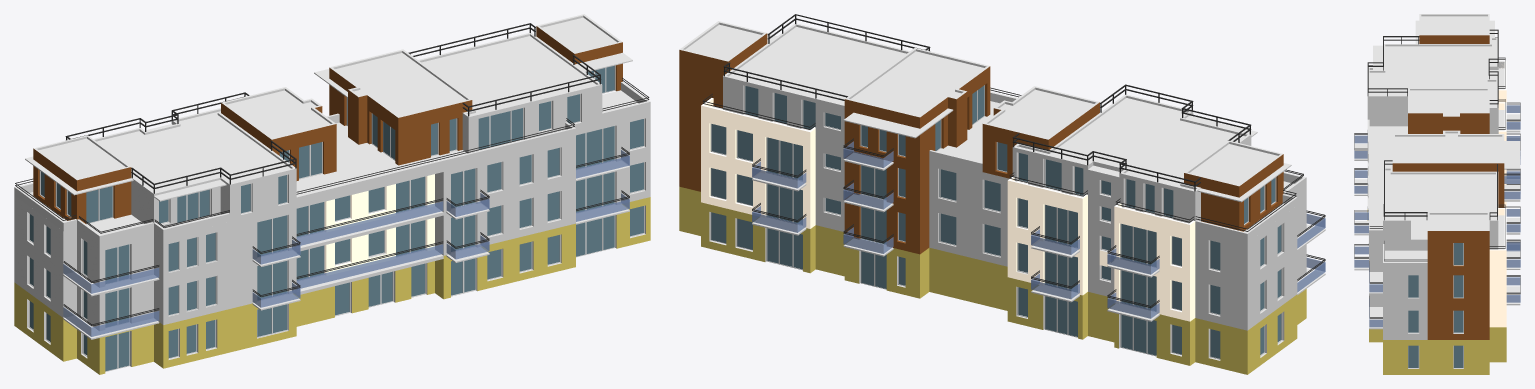
3 views of the same model, side by side, from view 1: azimuth 30°, elevation 25°; view 2: azimuth 150°, elevation 25°; view 3: azimuth 270°, elevation 25° (orthographic). The views are drawn at different scales.
Visible parts, largest first — view 1: 3eme, toit, 2eme, 1er, RDC; view 2: 3eme, toit, 2eme, 1er, RDC; view 3: toit, 3eme, 2eme, 1er, RDC.
Boxes of the visible parts, bbox=[...] form: 3eme: bbox=[14, 26, 650, 244]; toit: bbox=[34, 14, 622, 193]; 2eme: bbox=[14, 110, 650, 296]; 1er: bbox=[14, 153, 650, 339]; RDC: bbox=[14, 197, 650, 374]; 3eme: bbox=[679, 33, 1306, 241]; toit: bbox=[679, 14, 1282, 191]; 2eme: bbox=[679, 98, 1325, 286]; 1er: bbox=[679, 142, 1325, 330]; RDC: bbox=[679, 186, 1306, 374]; toit: bbox=[1367, 14, 1504, 230]; 3eme: bbox=[1367, 20, 1520, 269]; 2eme: bbox=[1354, 96, 1520, 304]; 1er: bbox=[1354, 159, 1520, 339]; RDC: bbox=[1367, 209, 1506, 374].
Bounding box in the file's own units: 45.97 × 13.9 × 14.53.
Materials: 7 (1 with a texture image).
